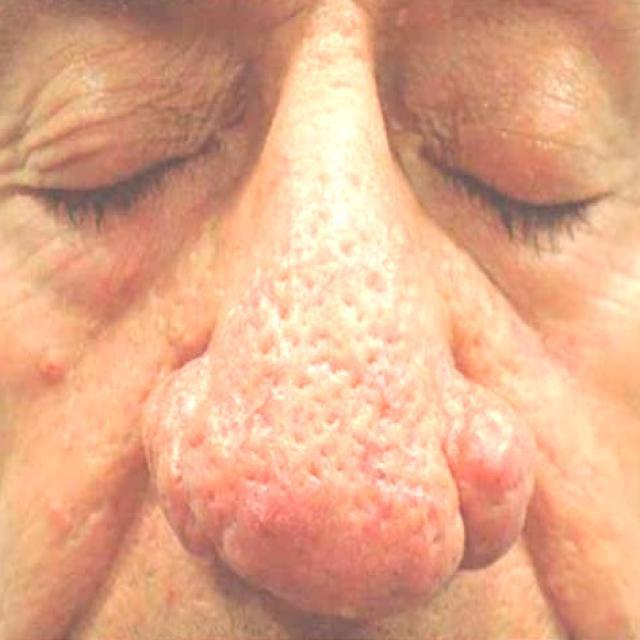Rosacea: (147, 149, 536, 603)
